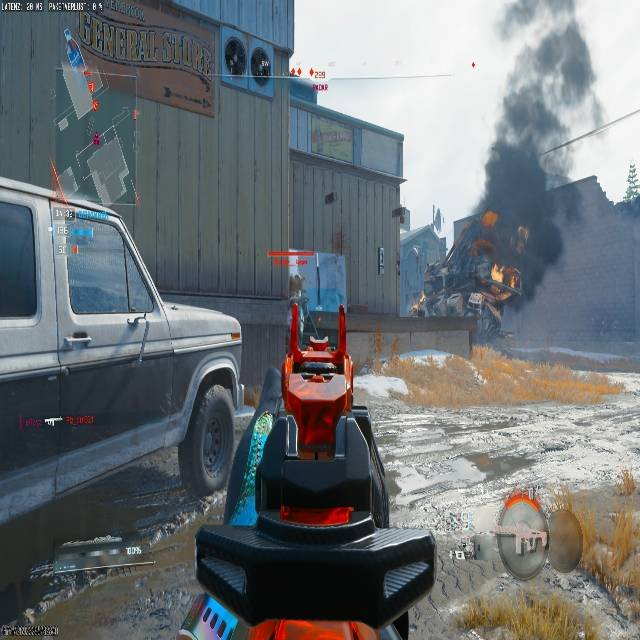player: (285, 272, 311, 334), (285, 270, 303, 312)
